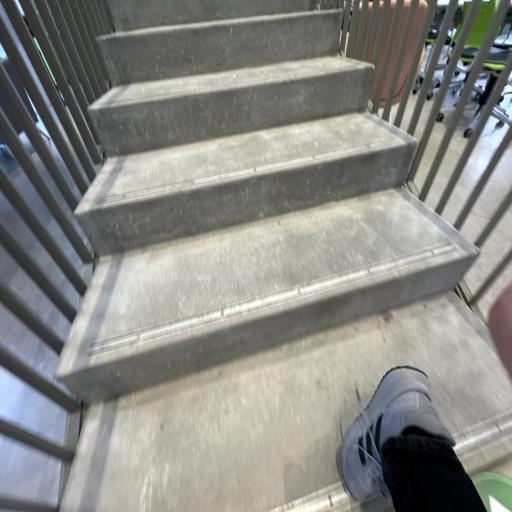Stairs: (57, 0, 512, 512), (60, 292, 512, 512), (57, 188, 478, 401), (75, 114, 415, 255), (89, 55, 374, 156), (98, 10, 343, 86), (106, 0, 316, 31)
